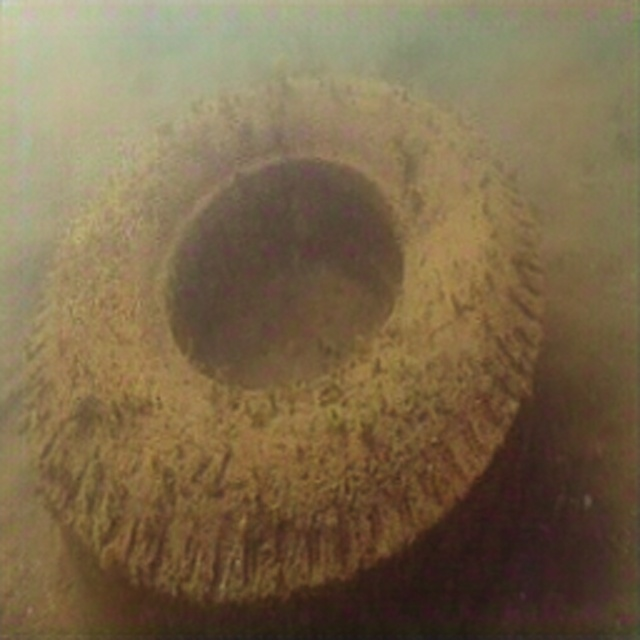mine: (22, 73, 545, 640)
